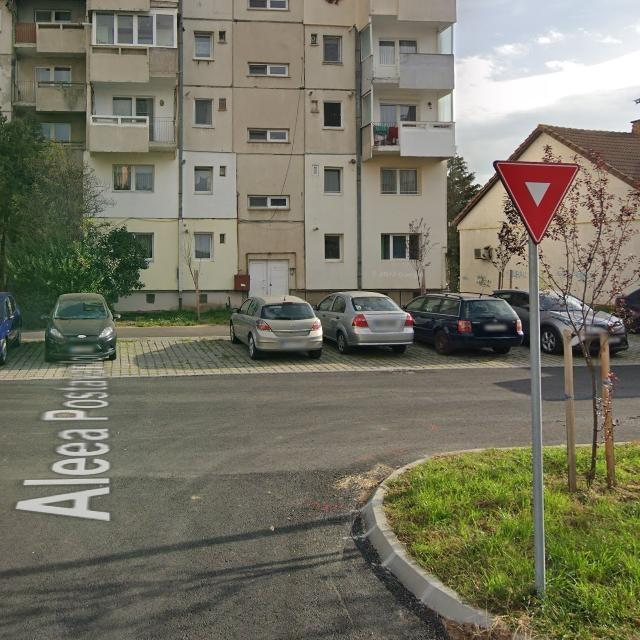prio_give_way: (494, 161, 581, 244)
